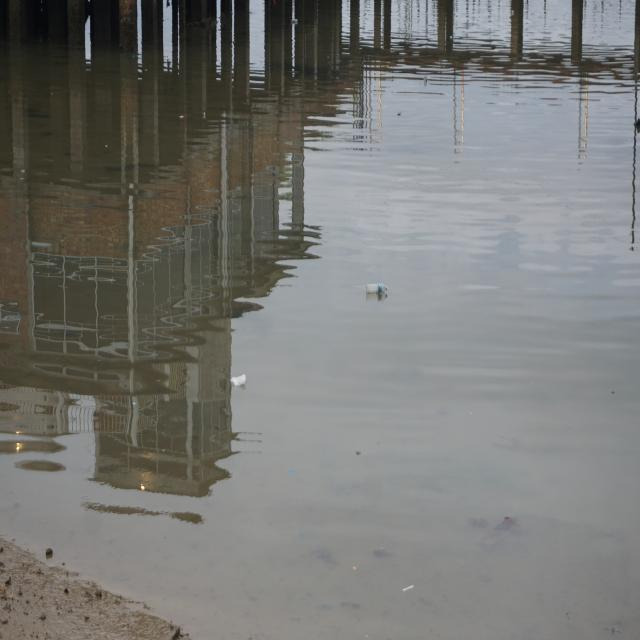Botol Plastik: (364, 277, 391, 300)
Kantong Plastik: (230, 374, 248, 390)
